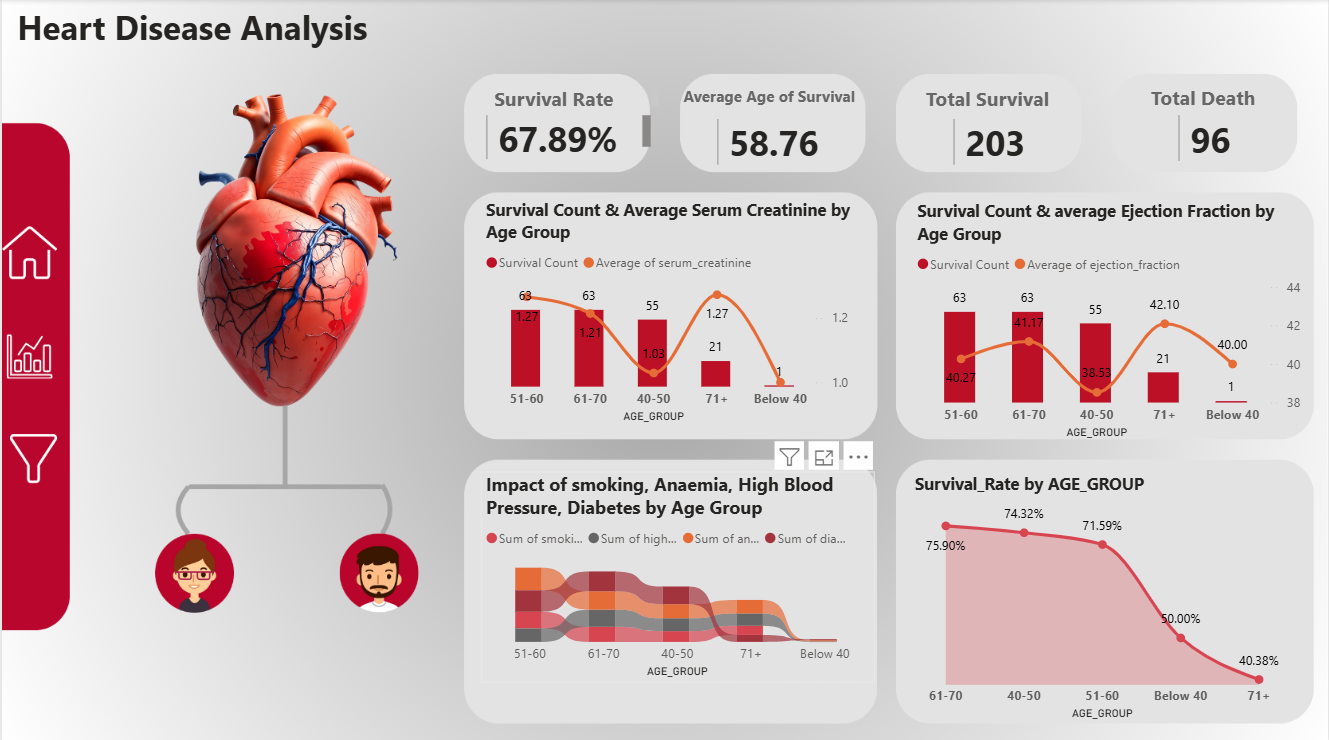

What the dashboard file says about the page in this screenshot:
{"tool":"powerbi","page":{"name":"Page 1","canvas":[1280,720],"ordinal":0},"visuals":[{"type":"textbox","box":[9.6,0,367.8,71.4],"z":0},{"type":"multiRowCard","fields":{"Values":["heart_Disease.Survival_Rate"]},"box":[462.1,107.4,168.9,51.9],"z":1},{"type":"multiRowCard","fields":{"Values":["heart_Disease.Average_Age_Survival"]},"box":[685.3,111,201.5,84.5],"z":2},{"type":"multiRowCard","fields":{"Values":["heart_Disease.Total_Surviour"]},"box":[913.3,111,149.6,76],"z":3},{"type":"multiRowCard","fields":{"Values":["heart_Disease.Total_Death"]},"box":[1130.4,107.4,149.6,66.4],"z":4},{"type":"textbox","box":[470.5,78.4,168.9,32.6],"z":5},{"type":"textbox","box":[652.7,78.4,202.7,35],"z":6},{"type":"textbox","box":[886.7,78.4,132.7,36.2],"z":7},{"type":"textbox","box":[1103.9,77.2,118.2,36.2],"z":8},{"type":"lineClusteredColumnComboChart","title":"Survival Count & Average Serum Creatinine by Age Group","fields":{"Category":["heart_Disease.AGE_GROUP"],"Y":["CountNonNull(heart_Disease.DEATH_EVENT)"],"Y2":["Avg(heart_Disease.serum_creatinine)"]},"box":[462.4,192.1,362.3,222.3],"z":9},{"type":"lineClusteredColumnComboChart","title":"Survival Count & average Ejection Fraction by Age Group","fields":{"Category":["heart_Disease.AGE_GROUP"],"Y":["CountNonNull(heart_Disease.DEATH_EVENT)"],"Y2":["Avg(heart_Disease.ejection_fraction)"]},"box":[878.3,193,381.2,236.5],"z":10},{"type":"lineChart","fields":{"Category":["heart_Disease.AGE_GROUP"],"Y":["heart_Disease.Survival_Rate"]},"box":[875.9,456,372.8,244.9],"z":11},{"type":"ribbonChart","title":"Impact of smoking, Anaemia, High Blood Pressure, Diabetes by Age Group","fields":{"Category":["heart_Disease.AGE_GROUP"],"Y":["Sum(heart_Disease.smoking)","Sum(heart_Disease.high_blood_pressure)","Sum(heart_Disease.anaemia)","Sum(heart_Disease.diabetes)"]},"box":[462.4,455.6,380.1,204.5],"z":12}]}

Visuals, with their boxes in screenshot pixels (x1, y1, x2, y2), scaled from the page's 1280x720 canvas onto the 1329x740 screenshot:
textbox: [10,0,392,73]
multiRowCard - heart_Disease.Survival_Rate: [480,110,655,164]
multiRowCard - heart_Disease.Average_Age_Survival: [712,114,921,201]
multiRowCard - heart_Disease.Total_Surviour: [948,114,1104,192]
multiRowCard - heart_Disease.Total_Death: [1174,110,1328,179]
textbox: [489,81,664,114]
textbox: [678,81,888,117]
textbox: [921,81,1058,118]
textbox: [1146,79,1269,117]
"Survival Count & Average Serum Creatinine by Age Group" lineClusteredColumnComboChart: [480,197,856,426]
"Survival Count & average Ejection Fraction by Age Group" lineClusteredColumnComboChart: [912,198,1308,441]
lineChart - heart_Disease.AGE_GROUP x heart_Disease.Survival_Rate: [909,469,1297,720]
"Impact of smoking, Anaemia, High Blood Pressure, Diabetes by Age Group" ribbonChart: [480,468,875,678]
